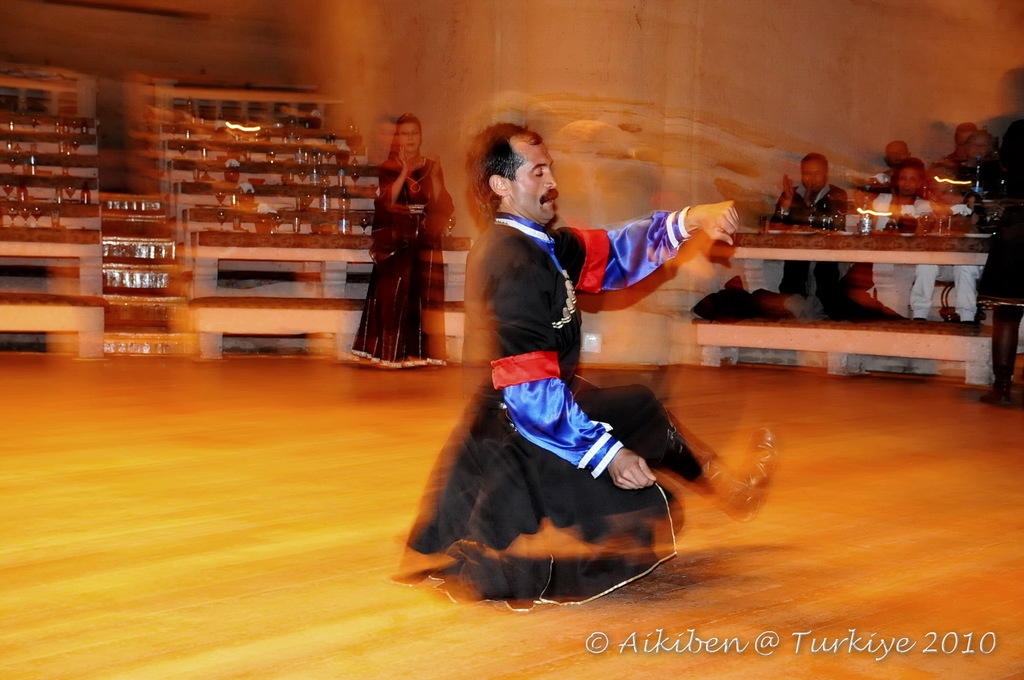Person: (386, 121, 779, 613), (768, 118, 1000, 320)
